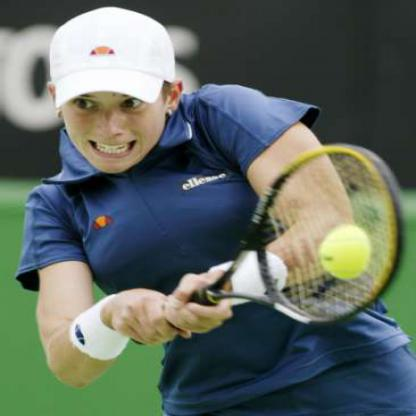face: (60, 18, 169, 174)
